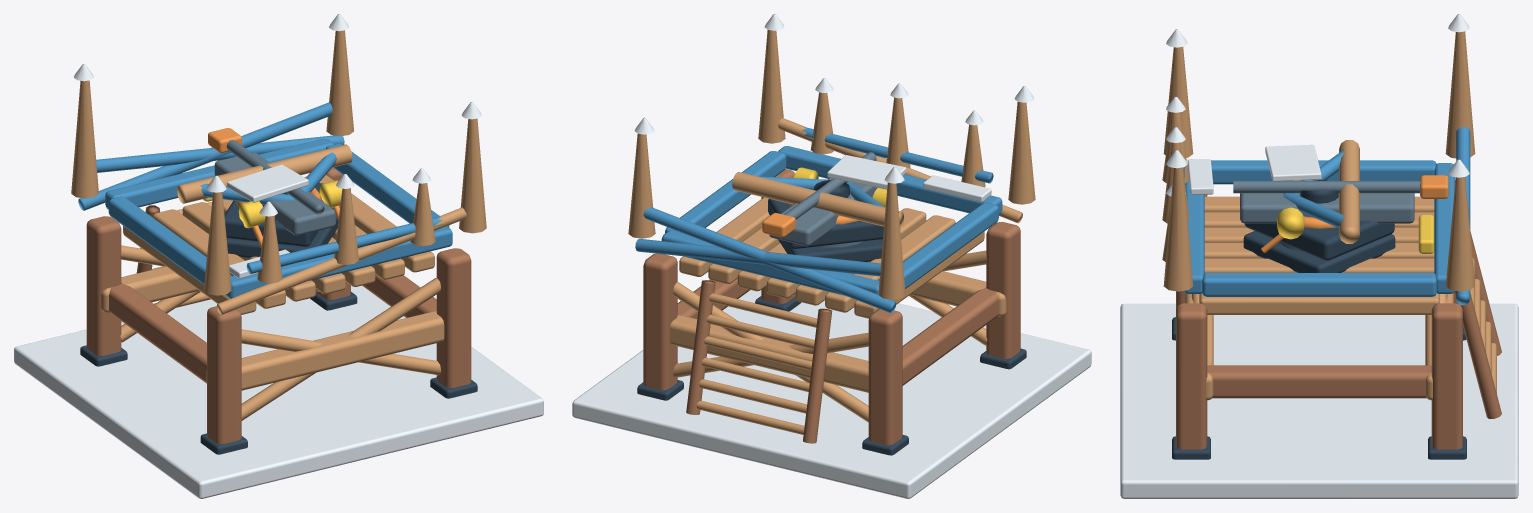
File: defense_platform.glb
3 views of the same model, side by side, from view 1: azimuth 30°, elevation 25°; view 2: azimuth 150°, elevation 25°; view 3: azimuth 270°, elevation 25° (orthographic). The views are drawn at different scales.
Visible parts, largest first — view 1: defense_platform; view 2: defense_platform; view 3: defense_platform.
Part boxes in pixels (bbox=[...]): defense_platform: bbox=[14, 14, 543, 498]; defense_platform: bbox=[572, 14, 1091, 498]; defense_platform: bbox=[1120, 14, 1518, 498].
Bounding box in the file's own units: 3.25 × 2.78 × 3.05.
